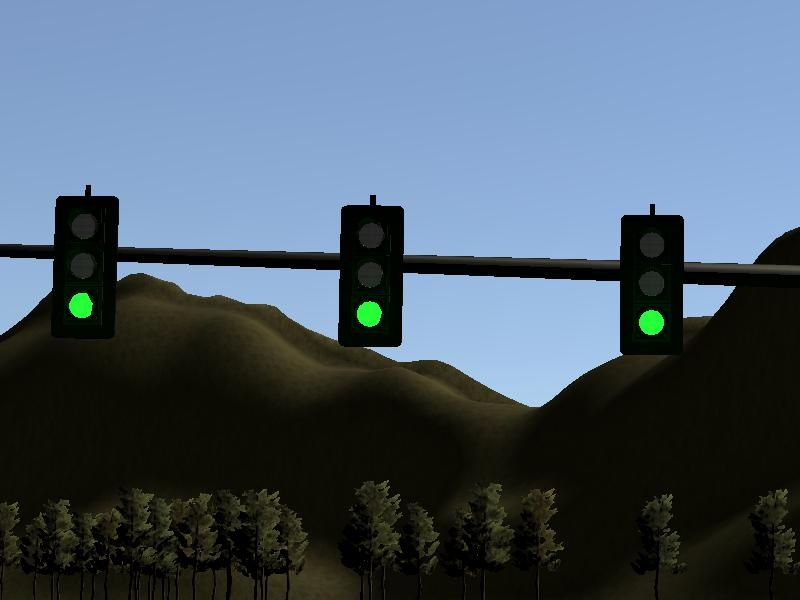GREEN: (616, 213, 688, 362), (337, 202, 408, 349), (51, 196, 119, 337)
